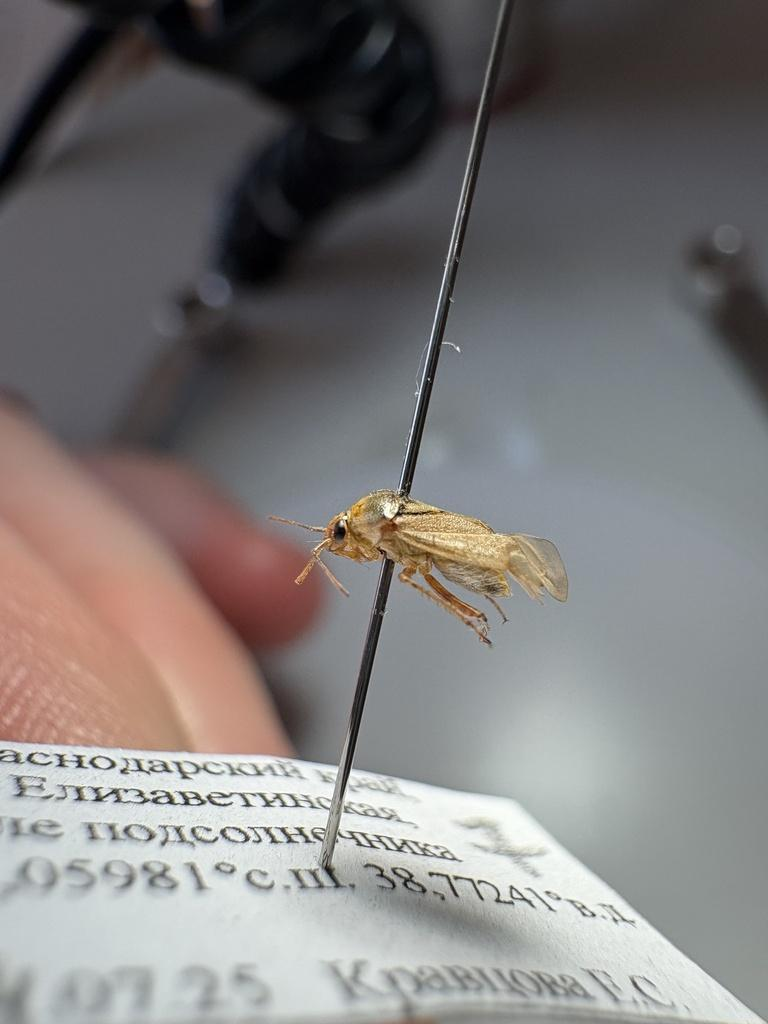plant_bugs: (247, 424, 587, 679)
